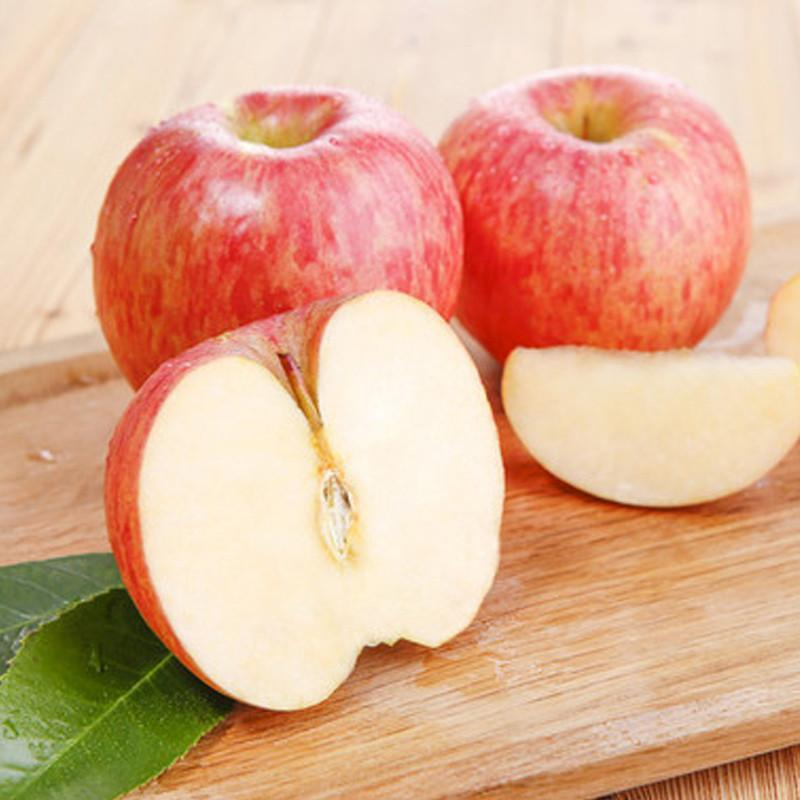apple: (90, 90, 469, 382), (444, 68, 756, 361)
